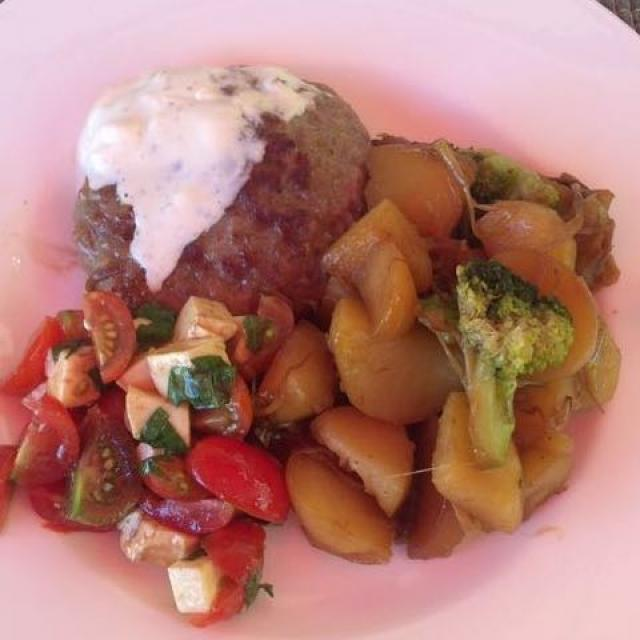beef: (55, 82, 383, 318)
salad: (6, 285, 274, 619)
sour-cream: (68, 59, 313, 269)
